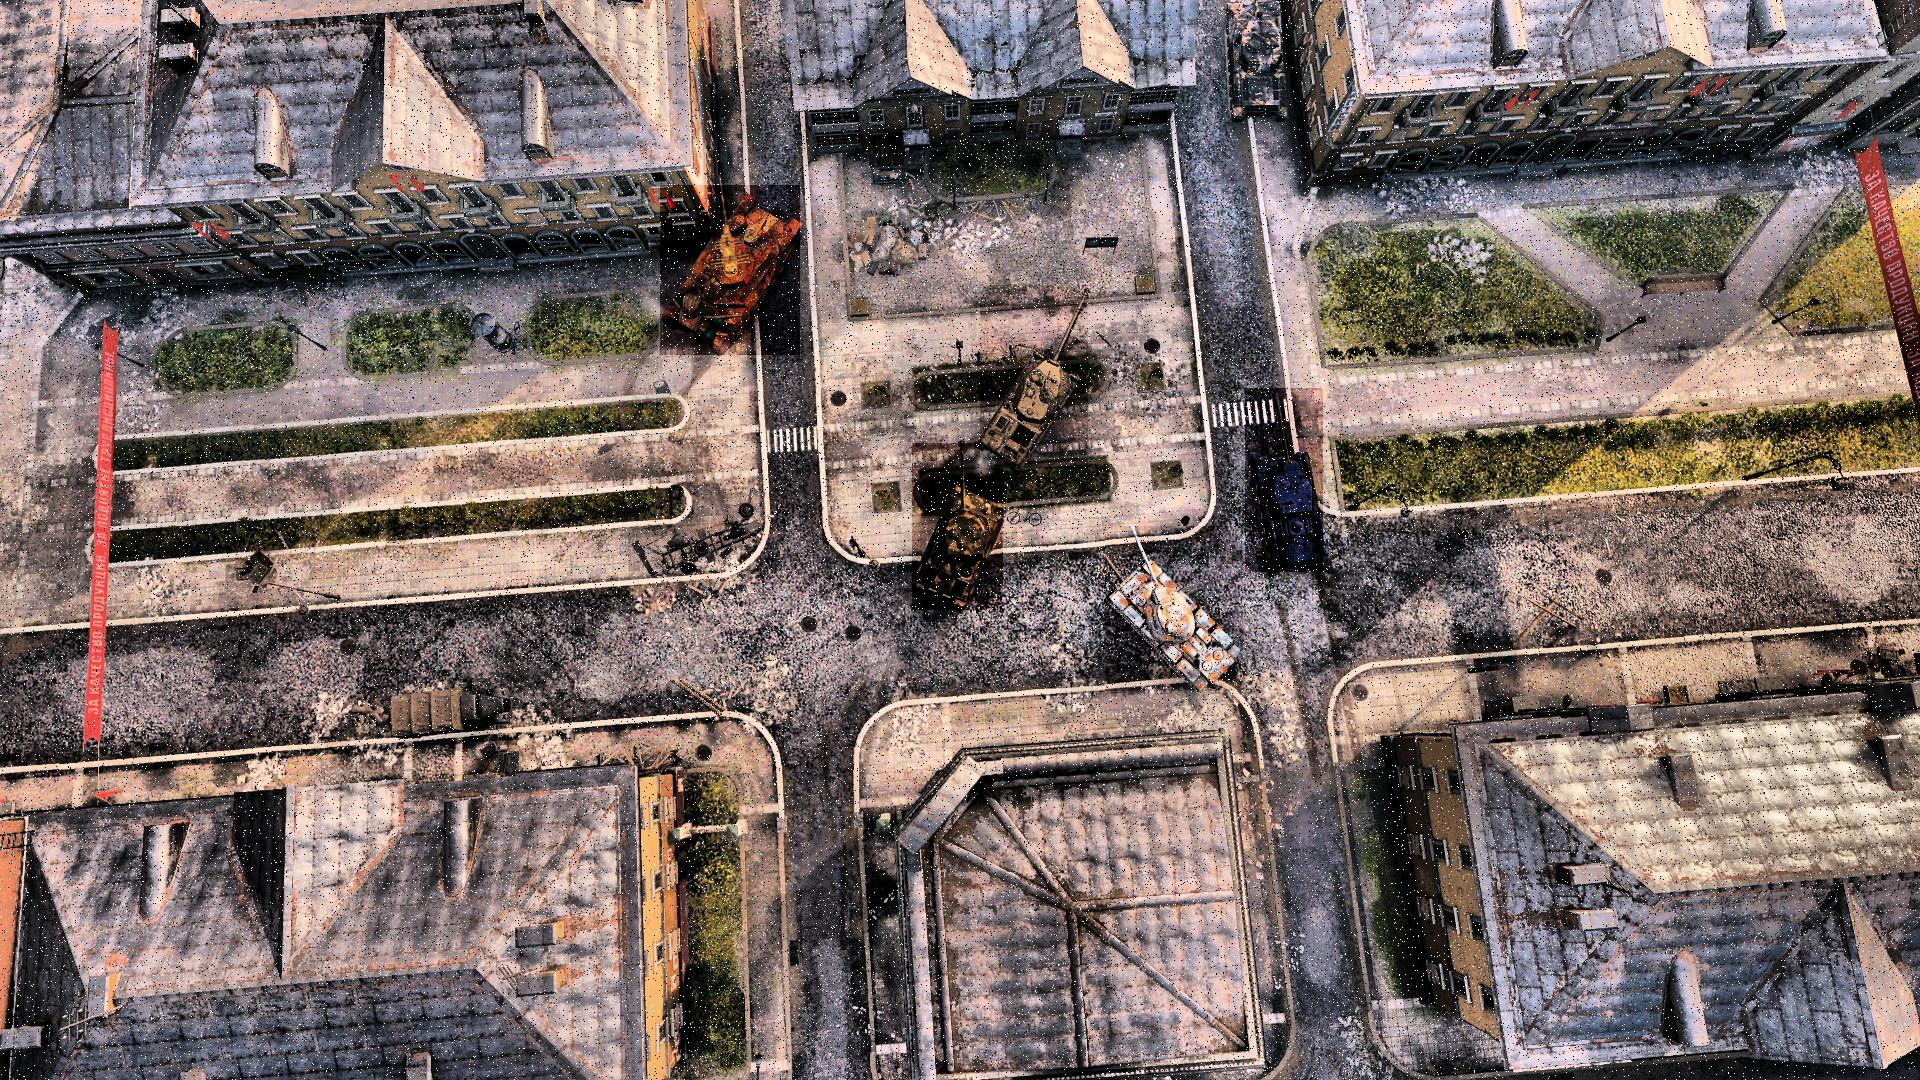military-vehicle: (659, 185, 800, 355), (1105, 526, 1244, 692), (980, 285, 1088, 468), (911, 443, 1004, 611), (1245, 388, 1323, 572)
